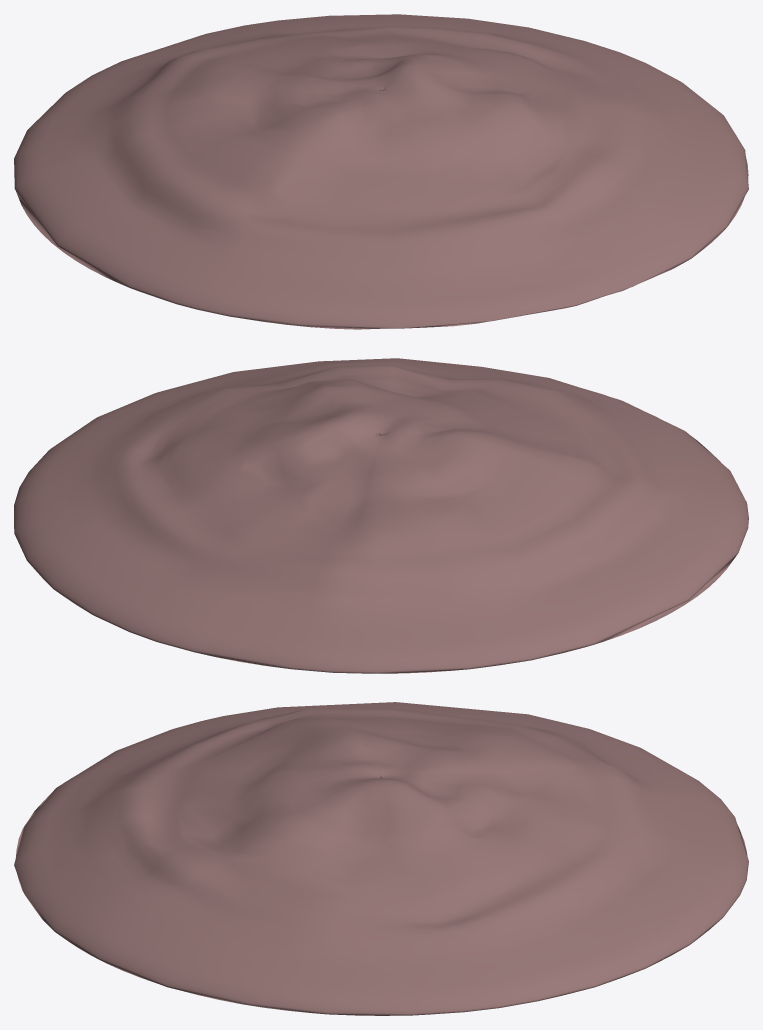
File: dirt.fbx
3 renders of one model, top to bottom at view 1: azimuth 30°, elevation 25°; view 2: azimuth 150°, elevation 25°; view 3: azimuth 270°, elevation 25°, orthographic.
Parts seen in each view (by area): view 1: Ground_Dirt; view 2: Ground_Dirt; view 3: Ground_Dirt.
Boxes of the visible parts, x1,y1,x2,y2 form: Ground_Dirt: (14,14,748,329); Ground_Dirt: (14,358,748,673); Ground_Dirt: (14,702,748,1015).
Bounding box in the file's own units: 17.73 × 2.53 × 17.78.
